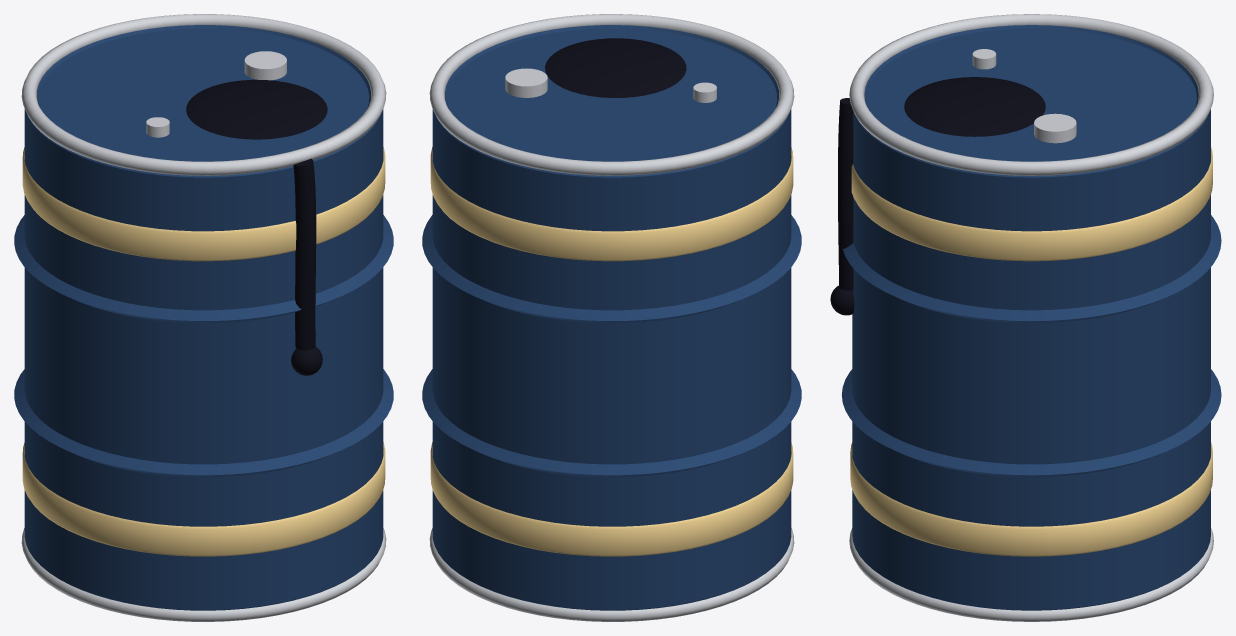
File: barrel.glb
3 renders of one model, left to right at view 1: azimuth 30°, elevation 25°; view 2: azimuth 150°, elevation 25°; view 3: azimuth 270°, elevation 25°, orthographic.
Parts seen in each view (by area): view 1: drum, chime_t, band, band.001, puddle, chime_b, drip, bung, drop; view 2: drum, chime_t, band, band.001, puddle, chime_b, bung; view 3: drum, chime_t, band, band.001, puddle, chime_b, drip, bung, drop.
Boxes of the visible parts, x1,y1,x2,y2 form: drum: [14, 25, 393, 610]; chime_t: [21, 14, 386, 175]; band: [22, 442, 385, 556]; band.001: [22, 147, 385, 261]; puddle: [186, 79, 327, 139]; chime_b: [21, 528, 386, 621]; drip: [293, 158, 316, 350]; bung: [244, 51, 286, 80]; drop: [291, 346, 322, 375]; drum: [422, 25, 801, 610]; chime_t: [429, 14, 794, 175]; band: [430, 442, 793, 556]; band.001: [430, 147, 793, 261]; puddle: [545, 38, 686, 97]; chime_b: [429, 528, 794, 621]; bung: [505, 68, 547, 97]; drum: [842, 25, 1221, 610]; chime_t: [849, 14, 1213, 175]; band: [850, 442, 1212, 556]; band.001: [851, 147, 1212, 261]; puddle: [904, 77, 1045, 136]; chime_b: [849, 528, 1213, 621]; drip: [838, 98, 853, 290]; bung: [1034, 113, 1076, 143]; drop: [830, 285, 854, 315].
Size of the model in its own units: 0.804 by 1.08 by 0.828.
